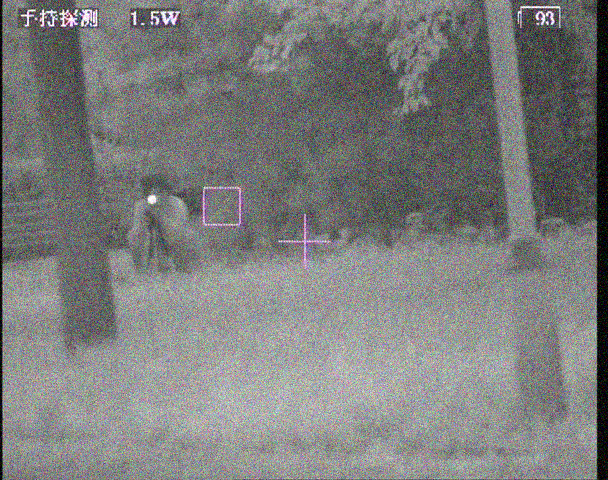my: (147, 193, 159, 207)
